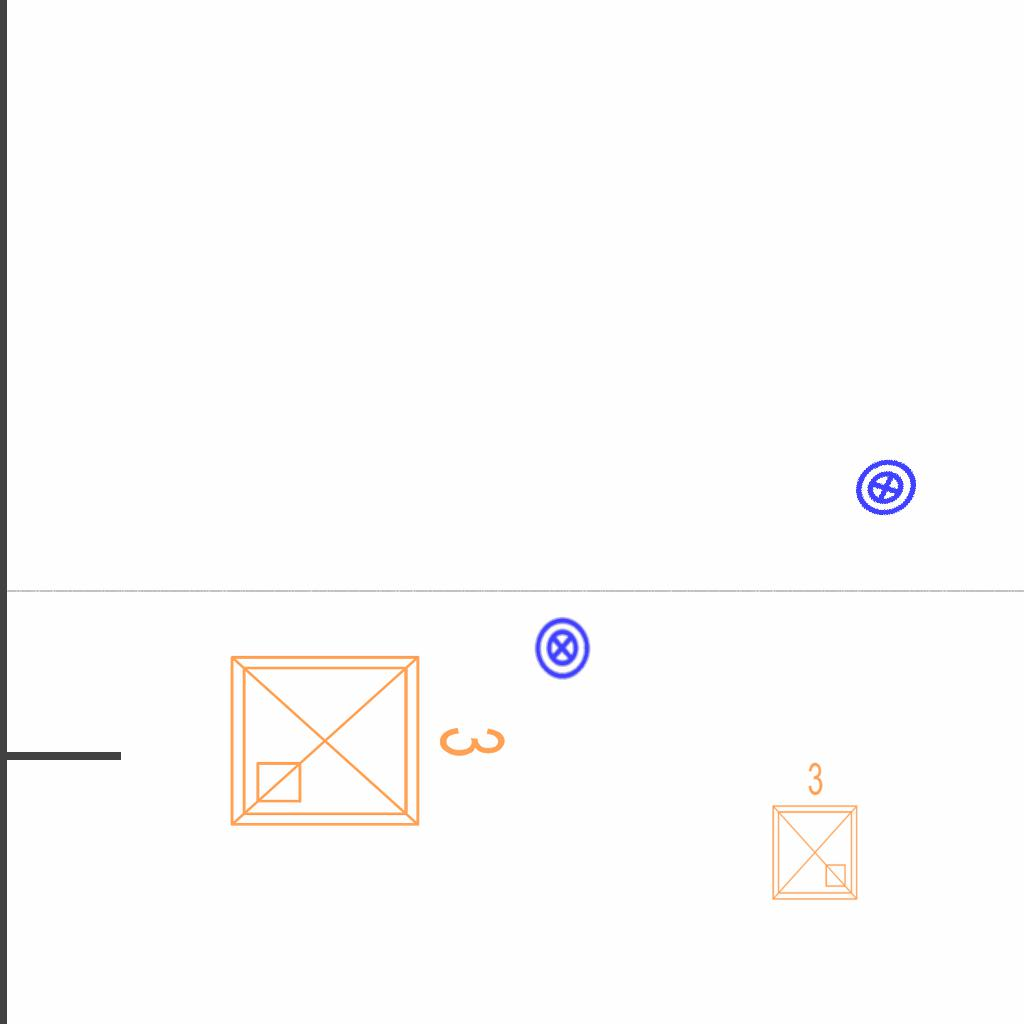Einbaudownlights_LED_Konferenzraeume: (216, 633, 516, 841), (761, 757, 865, 907)
Taster_beleuchtet: (842, 444, 930, 532), (529, 615, 595, 681)
